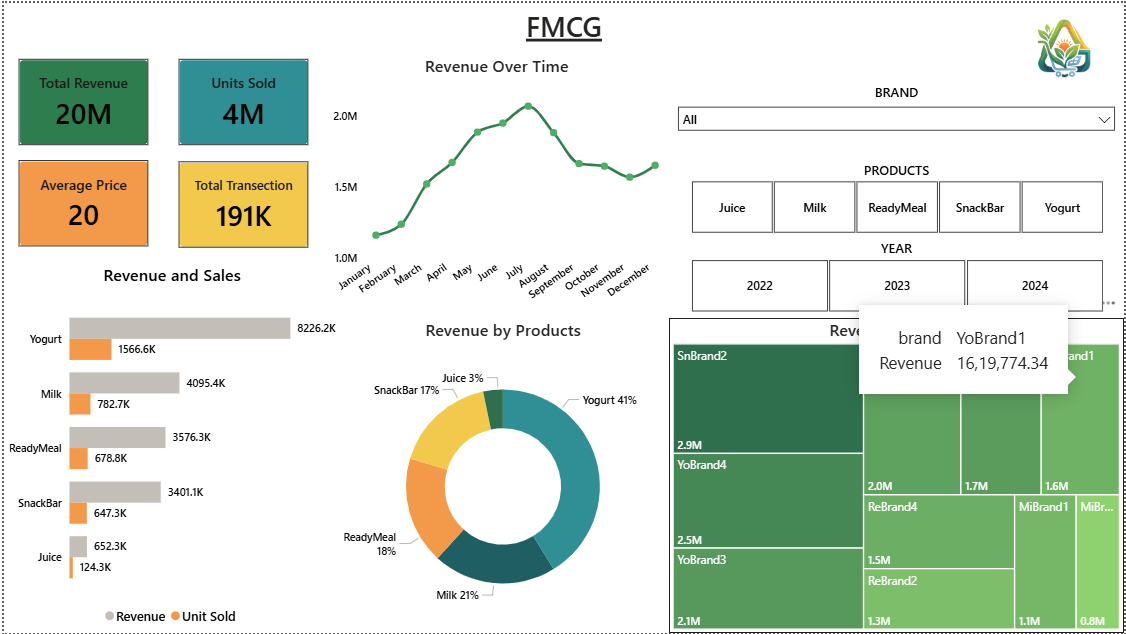

The dashboard page shown, as its layout file describes it:
{"tool":"powerbi","page":{"name":"Overview","canvas":[1280,720],"ordinal":0},"visuals":[{"type":"textbox","box":[499.5,0,279.9,93.3],"z":0},{"type":"cardVisual","fields":{"Data":["Sum(FMCG_2022_2024.Revenue)"]},"box":[0,47.1,182.9,132.9],"z":1000},{"type":"cardVisual","fields":{"Data":["Sum(FMCG_2022_2024.units_sold)"]},"box":[182.9,47.1,182.9,132.9],"z":2000},{"type":"cardVisual","fields":{"Data":["Avg(FMCG_2022_2024.units_sold)"]},"box":[0,162.9,182.9,132.9],"z":3000},{"type":"cardVisual","fields":{"Data":["CountNonNull(FMCG_2022_2024.units_sold)"]},"box":[182.9,164.3,182.9,132.9],"z":4000},{"type":"image","box":[1145.8,0,134.5,93.3],"z":5000},{"type":"lineChart","title":"Revenue Over Time","fields":{"Y":["Sum(FMCG_2022_2024.Revenue)"],"Category":["FMCG_2022_2024.date.Variation.Date Hierarchy.Year","FMCG_2022_2024.date.Variation.Date Hierarchy.Quarter","FMCG_2022_2024.date.Variation.Date Hierarchy.Month","FMCG_2022_2024.date.Variation.Date Hierarchy.Day"]},"box":[365,59,395.2,300.5],"z":6000},{"type":"donutChart","fields":{"Y":["Sum(FMCG_2022_2024.Revenue)"],"Category":["FMCG_2022_2024.category"]},"box":[379.4,359.5,380.7,360.7],"z":7000},{"type":"clusteredBarChart","title":"Revenue and Sales","fields":{"Category":["FMCG_2022_2024.category"],"Y":["Sum(FMCG_2022_2024.Revenue)","Sum(FMCG_2022_2024.units_sold)"]},"box":[0,297.3,384.4,422.9],"z":8000},{"type":"treemap","fields":{"Group":["FMCG_2022_2024.brand"],"Values":["Sum(FMCG_2022_2024.Revenue)"]},"box":[760.1,359.5,520,360.7],"z":9000},{"type":"slicer","title":"BRAND","fields":{"Values":["FMCG_2022_2024.brand"]},"box":[760.1,90.8,520,89.6],"z":10000},{"type":"slicer","title":"PRODUCTS","fields":{"Values":["FMCG_2022_2024.category"]},"box":[760.1,180.4,520,89.6],"z":11000},{"type":"slicer","title":"YEAR","fields":{"Values":["FMCG_2022_2024.date.Variation.Date Hierarchy.Year"]},"box":[760.1,269.9,520,89.6],"z":12000}]}

Visuals, with their boxes in screenshot pixels (x1, y1, x2, y2), scaled from the page's 1280x720 canvas onto the 1126x634 screenshot:
textbox: (x1=439, y1=0, x2=686, y2=82)
cardVisual - Sum(FMCG_2022_2024.Revenue): (x1=0, y1=41, x2=161, y2=158)
cardVisual - Sum(FMCG_2022_2024.units_sold): (x1=161, y1=41, x2=322, y2=158)
cardVisual - Avg(FMCG_2022_2024.units_sold): (x1=0, y1=143, x2=161, y2=260)
cardVisual - CountNonNull(FMCG_2022_2024.units_sold): (x1=161, y1=145, x2=322, y2=262)
image: (x1=1008, y1=0, x2=1125, y2=82)
"Revenue Over Time" lineChart: (x1=321, y1=52, x2=669, y2=317)
donutChart - Sum(FMCG_2022_2024.Revenue) x FMCG_2022_2024.category: (x1=334, y1=317, x2=669, y2=633)
"Revenue and Sales" clusteredBarChart: (x1=0, y1=262, x2=338, y2=633)
treemap - FMCG_2022_2024.brand x Sum(FMCG_2022_2024.Revenue): (x1=669, y1=317, x2=1125, y2=633)
"BRAND" slicer: (x1=669, y1=80, x2=1125, y2=159)
"PRODUCTS" slicer: (x1=669, y1=159, x2=1125, y2=238)
"YEAR" slicer: (x1=669, y1=238, x2=1125, y2=317)
